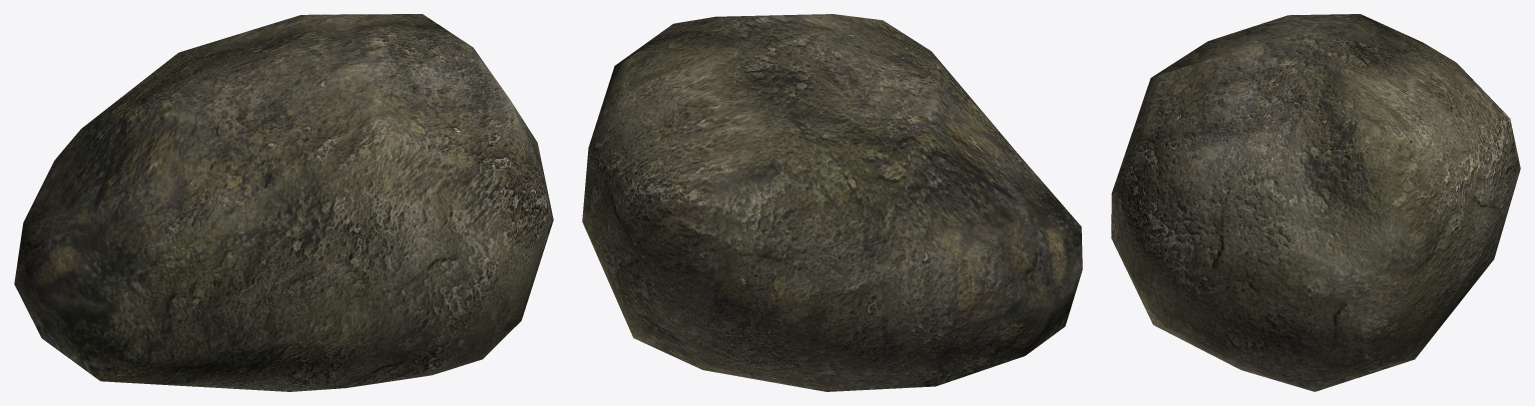
The model's file is Stone_02.fbx.
The picture shows the model from 3 angles, left to right: view 1: azimuth 30°, elevation 25°; view 2: azimuth 150°, elevation 25°; view 3: azimuth 270°, elevation 25°; orthographic projection. The views are drawn at different scales.
Visible parts, largest first — view 1: Stone_02; view 2: Stone_02; view 3: Stone_02.
Part boxes in pixels (x1,y1,x2,y2): Stone_02: (14,14,553,391); Stone_02: (582,14,1082,391); Stone_02: (1111,14,1520,391).
Size of the model in its own units: 2.26 by 1.5 by 1.85.
